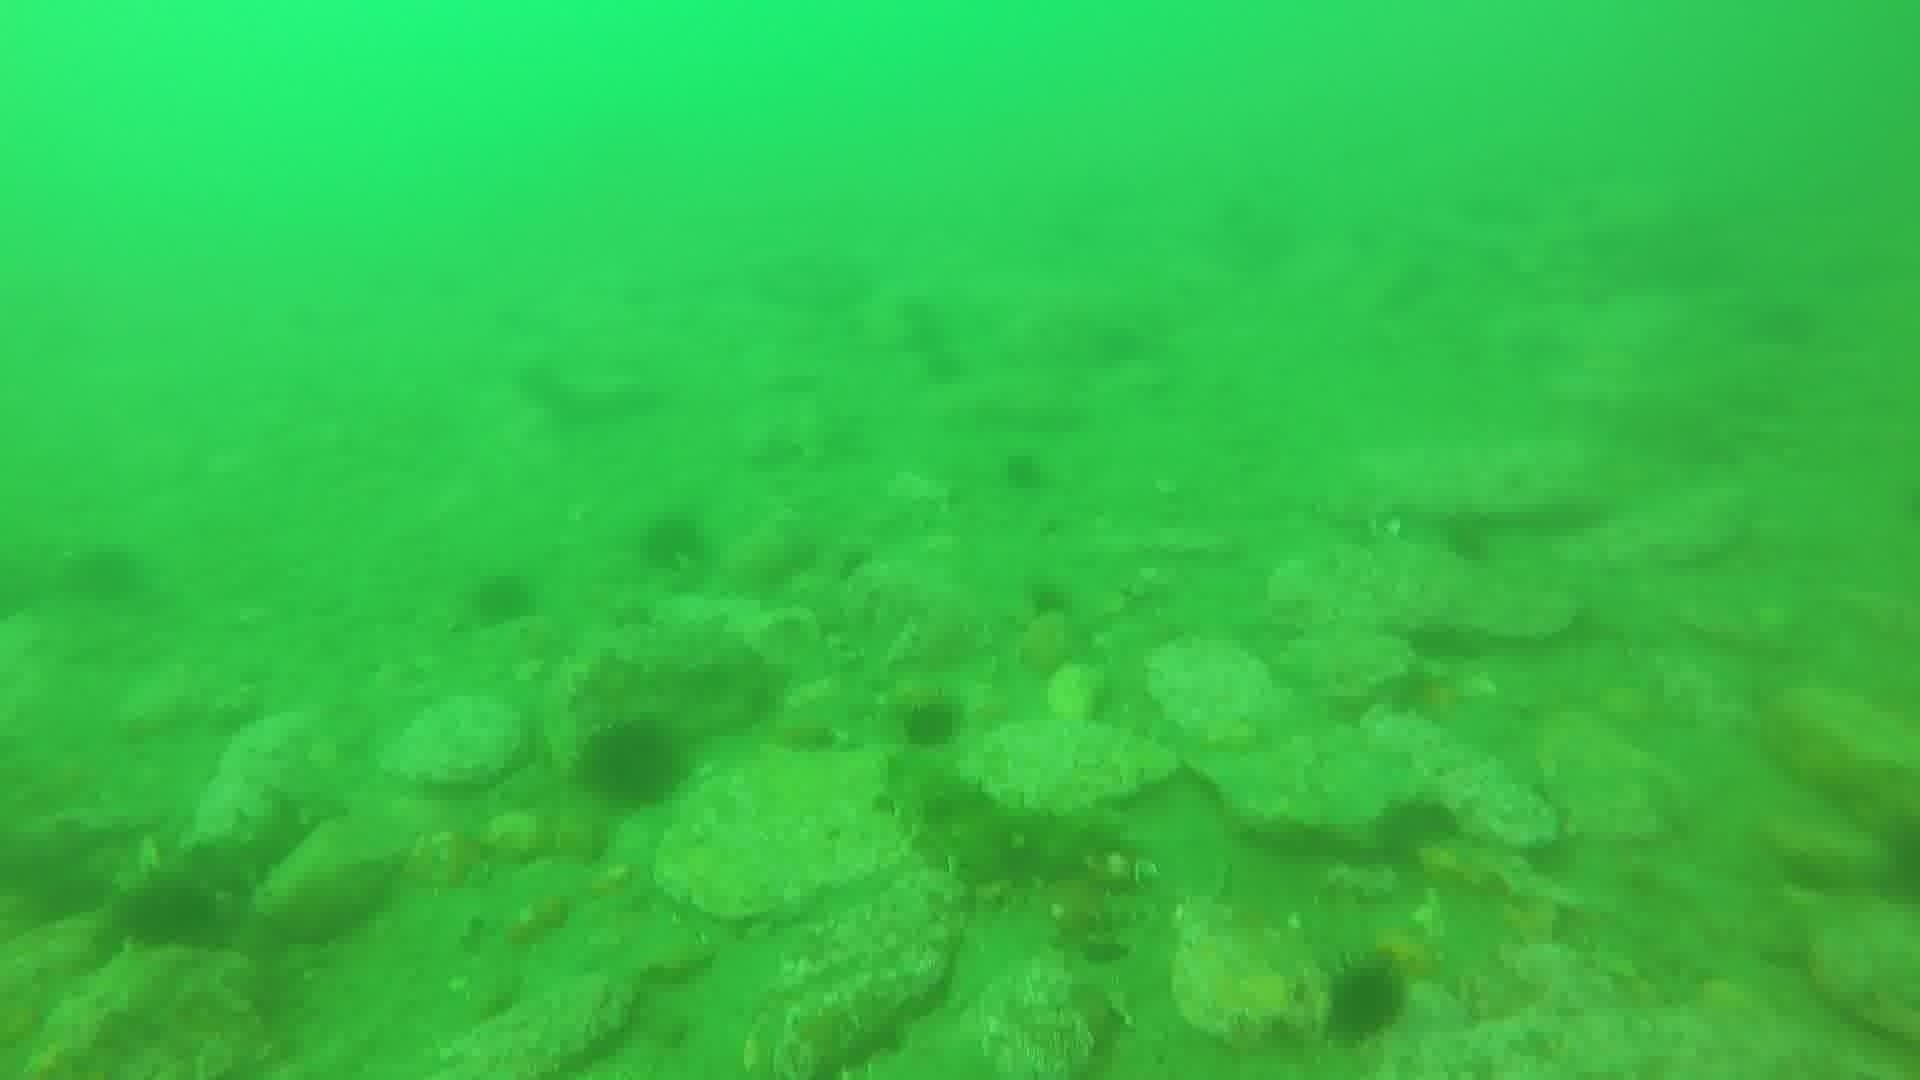echinus: (574, 713, 691, 814), (117, 873, 227, 957), (1319, 955, 1412, 1046), (1369, 791, 1464, 870), (63, 541, 148, 609), (634, 509, 712, 578), (463, 567, 541, 633), (894, 692, 968, 754), (1435, 506, 1501, 568), (996, 446, 1051, 497)
holothurian: (881, 760, 1143, 894), (120, 785, 327, 920)
